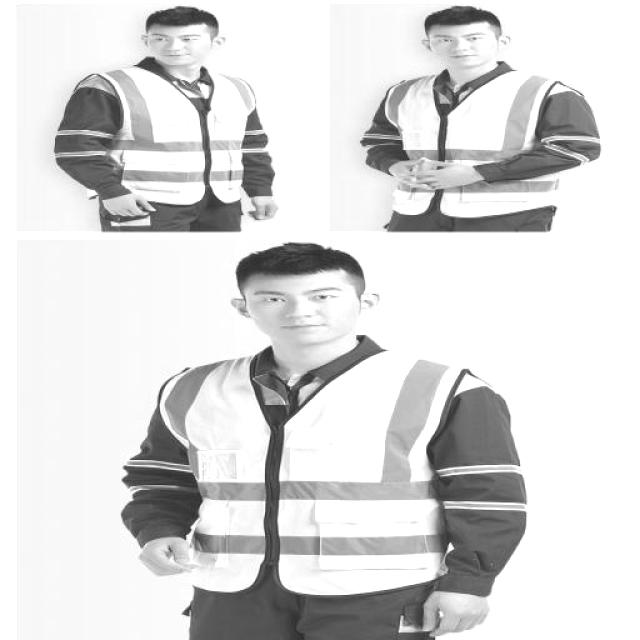face_nomask: (257, 286, 344, 346), (430, 31, 488, 67), (150, 30, 204, 60)
hand_noglove: (414, 584, 496, 637), (139, 529, 197, 582), (409, 152, 477, 193), (95, 191, 154, 223), (386, 157, 436, 194), (239, 190, 282, 224)
head_nohelmet: (228, 237, 382, 291), (418, 2, 512, 34), (136, 4, 227, 30)
person: (121, 239, 548, 633), (355, 3, 610, 228), (48, 2, 292, 229)
vest: (123, 350, 518, 606), (387, 69, 602, 221), (54, 58, 254, 216)
